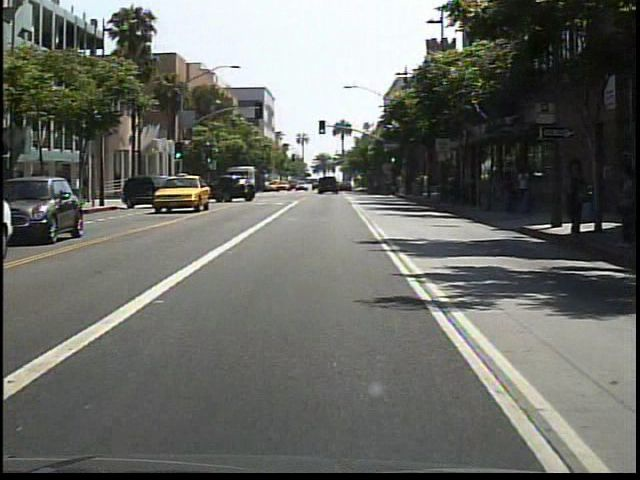person: (605, 163, 638, 246), (558, 156, 590, 241), (513, 165, 533, 213)
